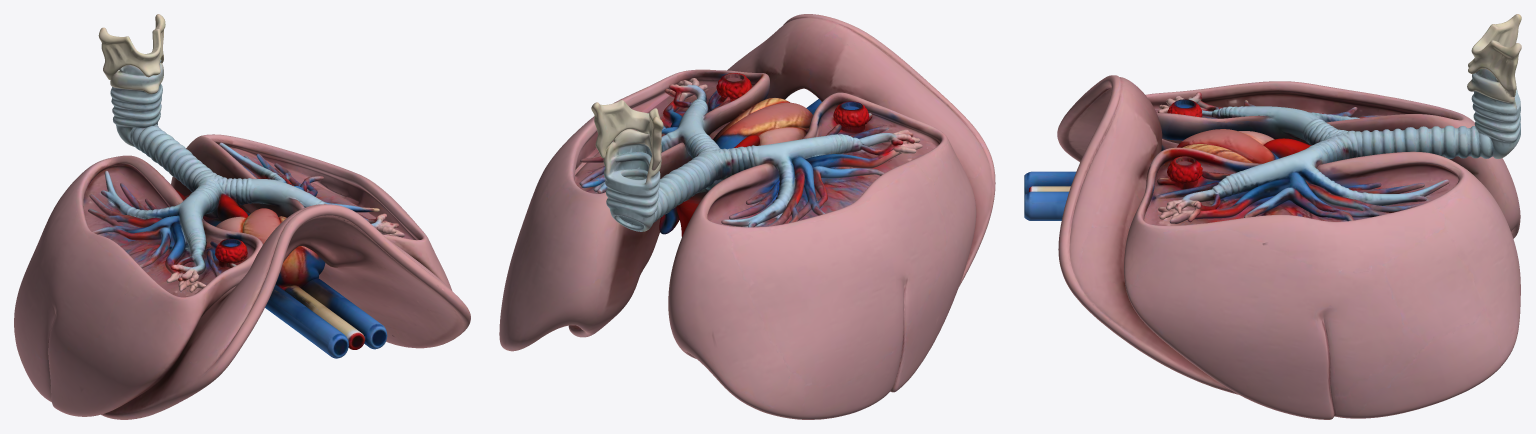
Rendered from lungs.glb.
3 views of the same model, side by side, from view 1: azimuth 30°, elevation 25°; view 2: azimuth 150°, elevation 25°; view 3: azimuth 270°, elevation 25° (orthographic). The views are drawn at different scales.
Parts seen in each view (by area): view 1: node_0; view 2: node_0; view 3: node_0.
Part boxes in pixels (bbox=[...]): node_0: bbox=[14, 14, 470, 419]; node_0: bbox=[499, 14, 995, 419]; node_0: bbox=[1024, 14, 1521, 419].
Size of the model in its own units: 0.852 by 0.6748 by 0.986.
Materials: 1 (1 with a texture image).
